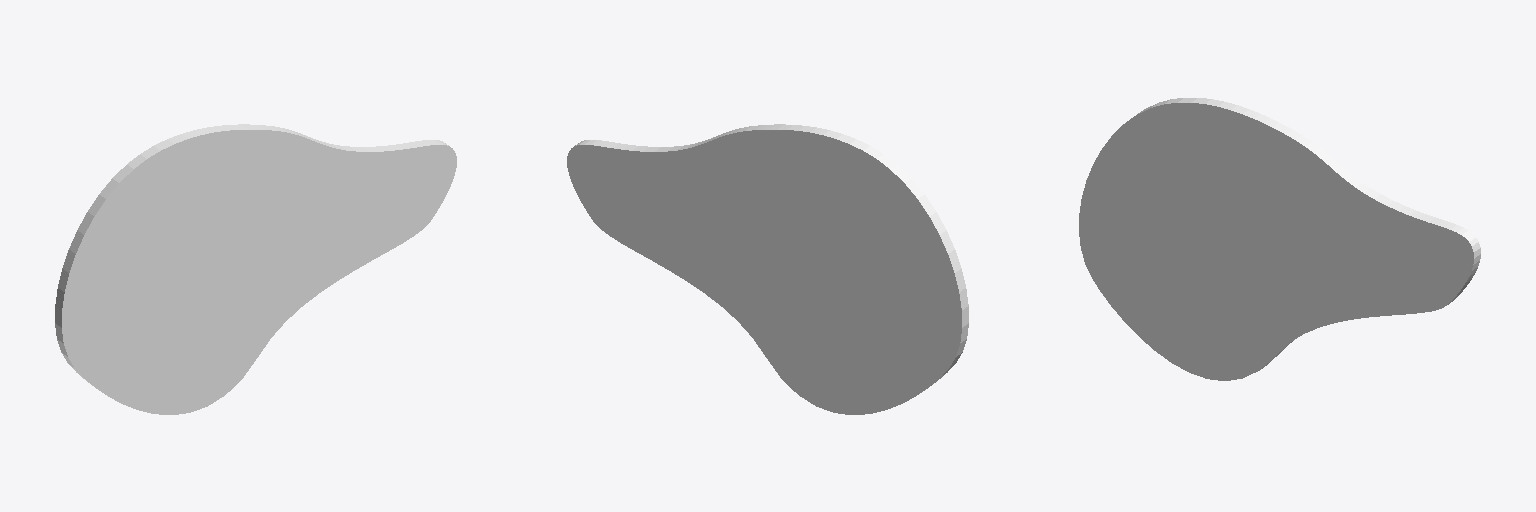
File: tinker.obj
The picture shows the model from 3 angles: view 1: azimuth 30°, elevation 25°; view 2: azimuth 150°, elevation 25°; view 3: azimuth 330°, elevation 25°; orthographic projection.
Parts seen in each view (by area): view 1: obj_0; view 2: obj_0; view 3: obj_0.
Boxes of the visible parts, x1=… form: obj_0: x1=55, y1=124, x2=456, y2=414; obj_0: x1=567, y1=124, x2=968, y2=414; obj_0: x1=1079, y1=98, x2=1480, y2=380.
Size of the model in its own units: 9.3 by 6.18 by 0.283.